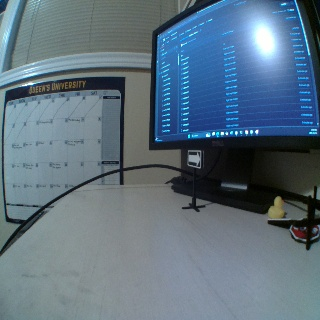sign_oneway_right: (186, 149, 202, 169)
